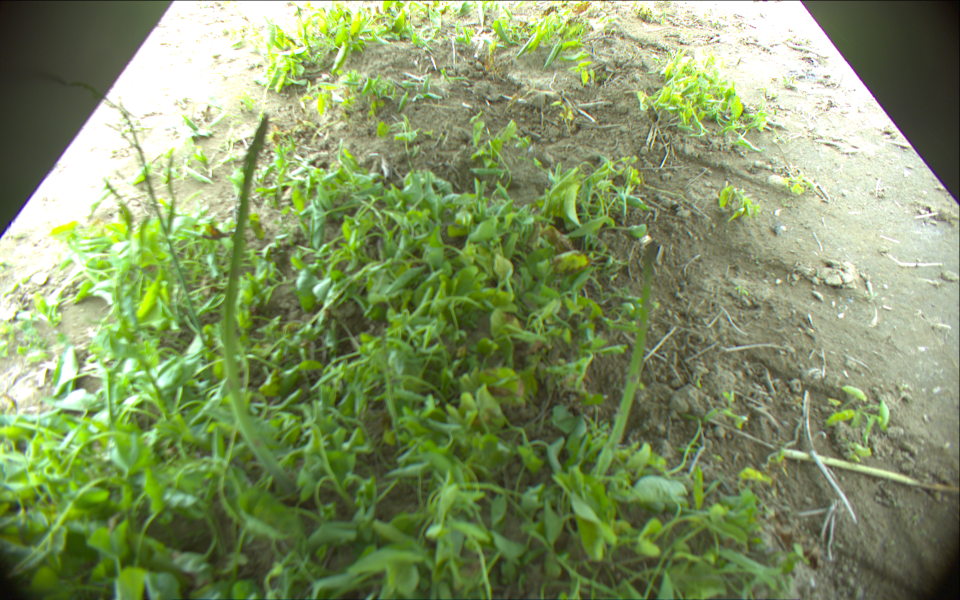aspa: (221, 115, 297, 487), (603, 240, 656, 461)
